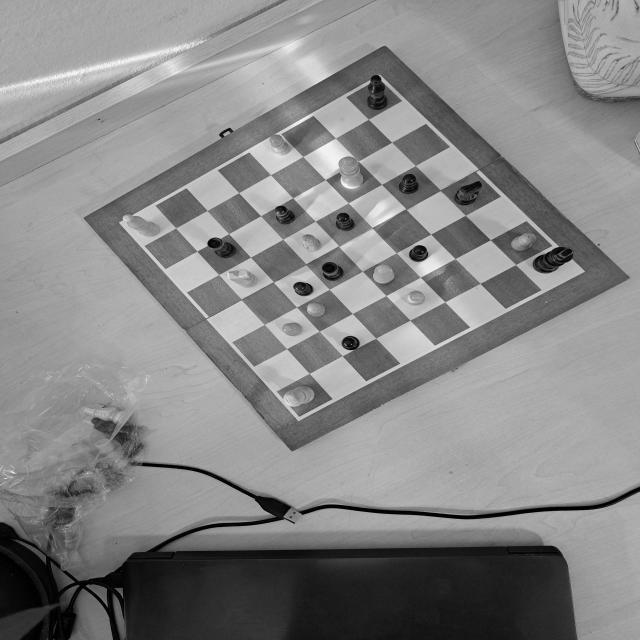chess-table-corners: (286, 409, 313, 426), (371, 74, 389, 84), (570, 266, 586, 276), (118, 219, 132, 228)
